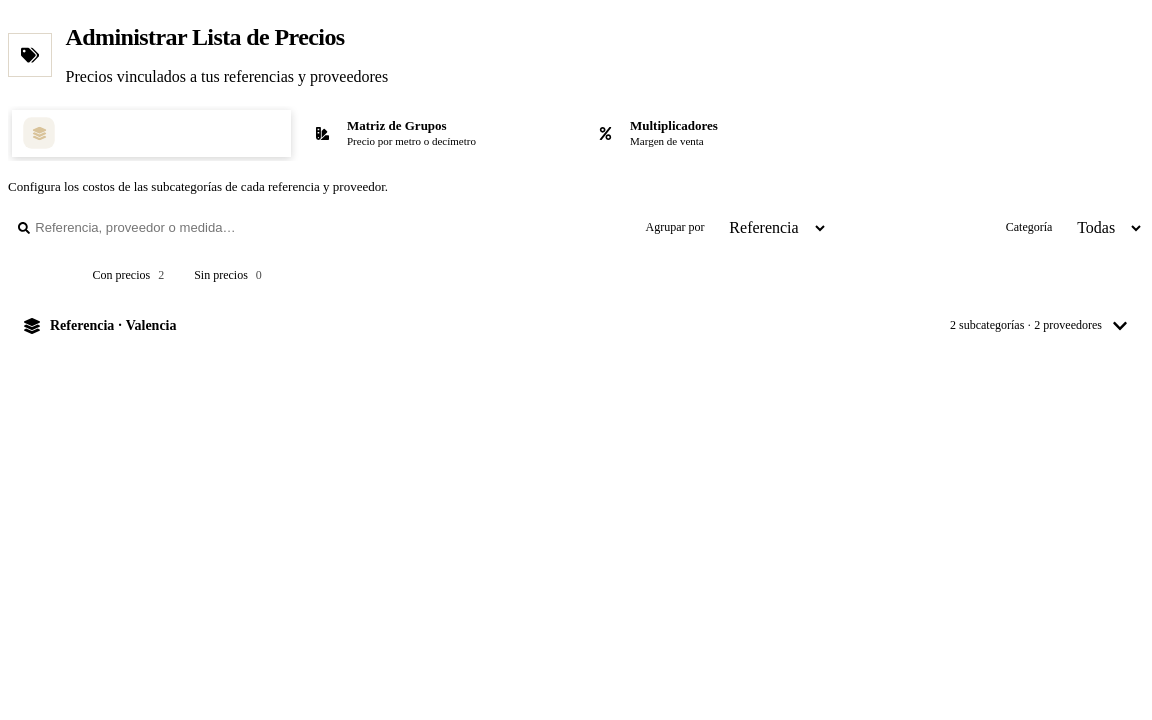
Scenario: Una referencia con proveedor independiente por subcategoría › indica que falta guardar el costo y no permite publicar una ficha sin confirmar
Step 1. Click the button with aria-label "Expandir referencia Valencia" → (113, 325), box [8, 304, 1144, 348]
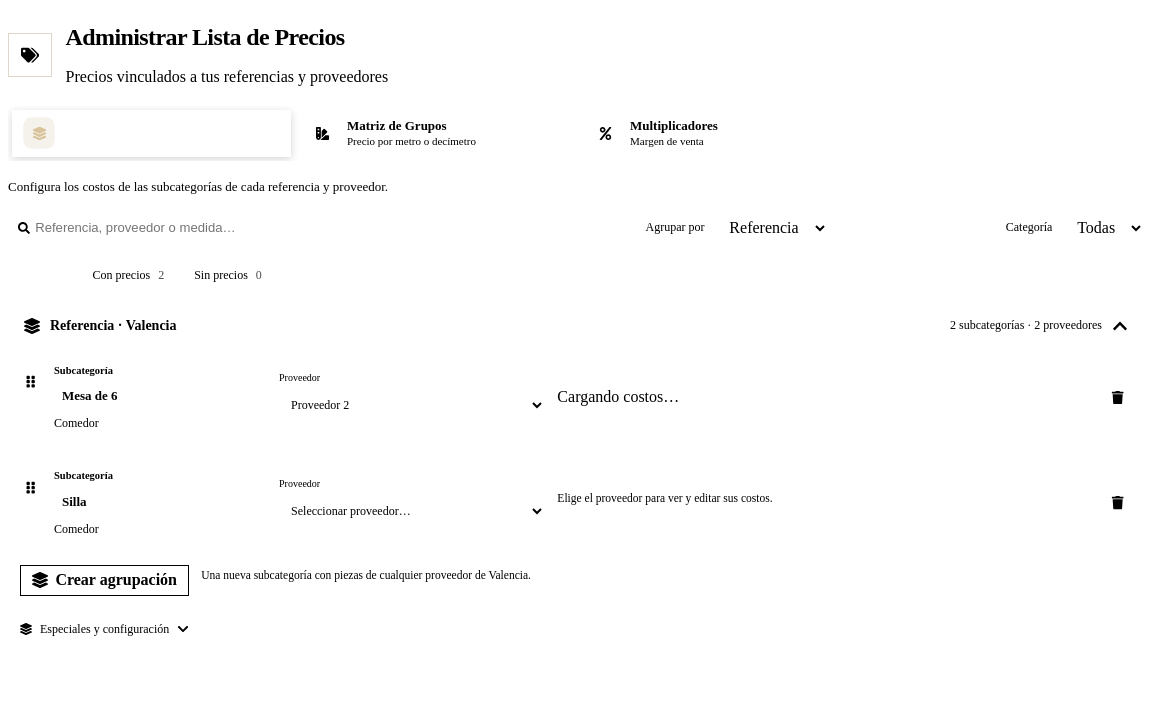
Step 2. Select "Proveedor 1" in the dropdown named "Proveedor de Mesa de 6" → (412, 405), box [279, 388, 545, 422]
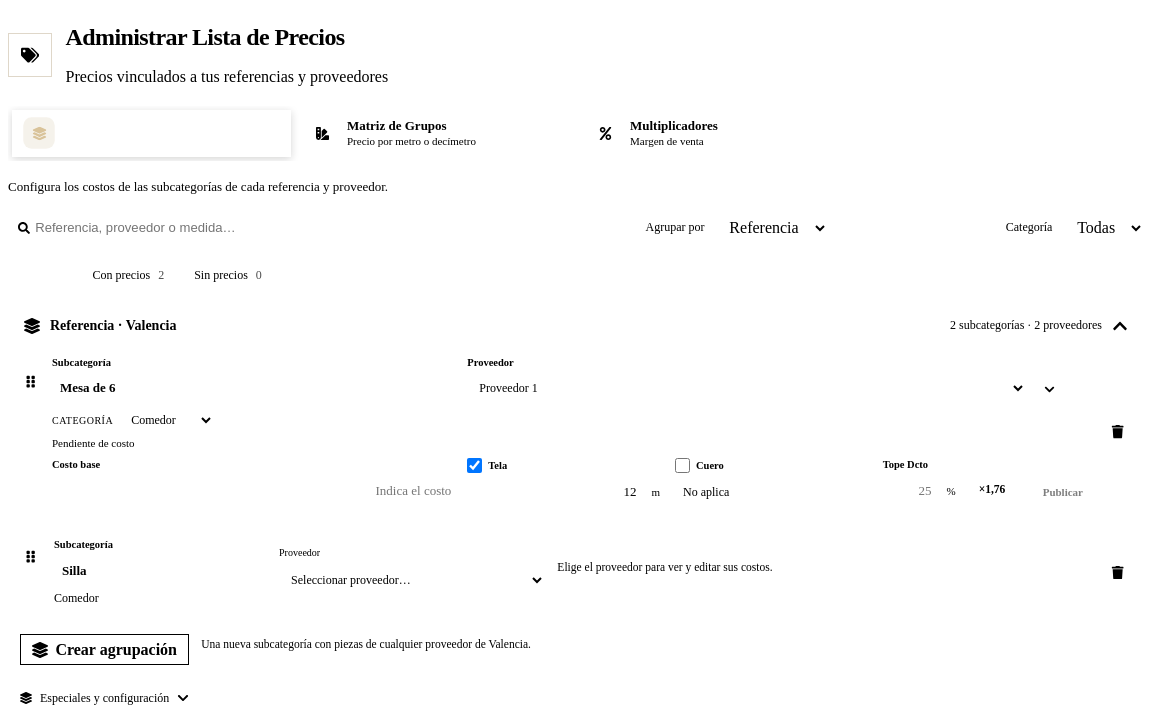
Check: the button with aria-label "Publicar Mesa de 6" is disabled, box [1034, 476, 1092, 508]
